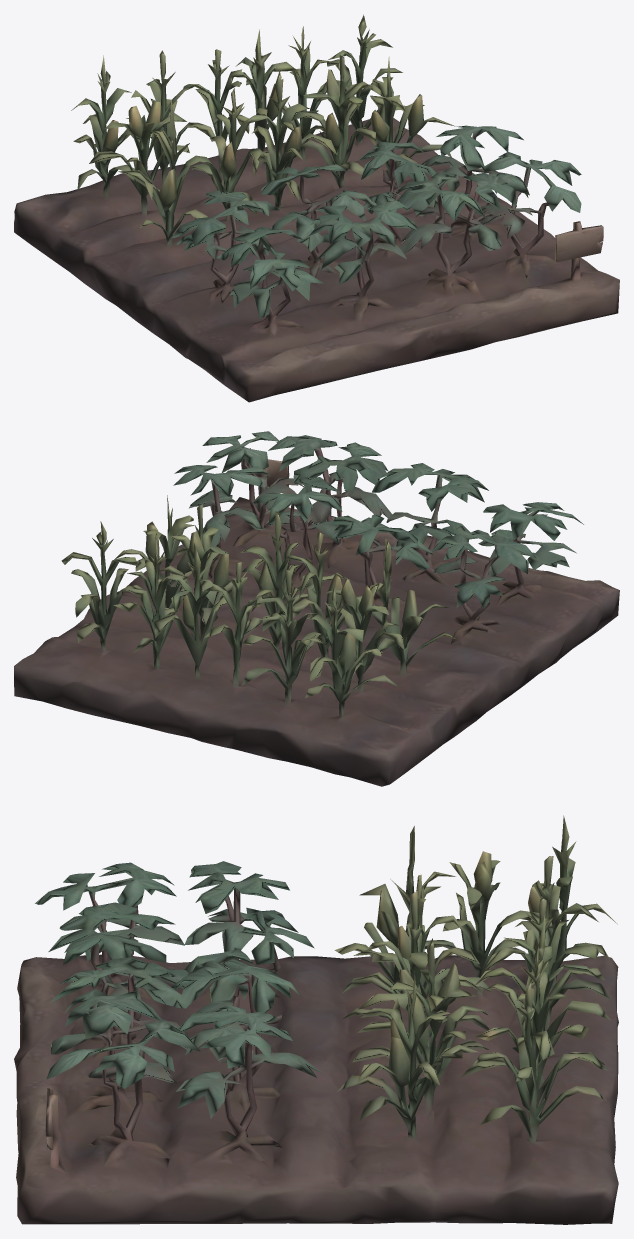
The model's file is farm_crop_rows.glb.
The picture shows the model from 3 angles, top to bottom: view 1: azimuth 30°, elevation 25°; view 2: azimuth 150°, elevation 25°; view 3: azimuth 270°, elevation 25°; orthographic projection. The views are drawn at different scales.
Visible parts, largest first — view 1: tripo_node_02472621-0b74-46bb-b646-5af27a9ff6a4; view 2: tripo_node_02472621-0b74-46bb-b646-5af27a9ff6a4; view 3: tripo_node_02472621-0b74-46bb-b646-5af27a9ff6a4.
Part boxes in pixels (box(x1,y1,x2,y2)): tripo_node_02472621-0b74-46bb-b646-5af27a9ff6a4: box(14, 14, 619, 402); tripo_node_02472621-0b74-46bb-b646-5af27a9ff6a4: box(14, 431, 619, 786); tripo_node_02472621-0b74-46bb-b646-5af27a9ff6a4: box(14, 815, 618, 1224).
Bounding box in the file's own units: 0.9191 × 0.4093 × 1.
1 material, 1 textured.
